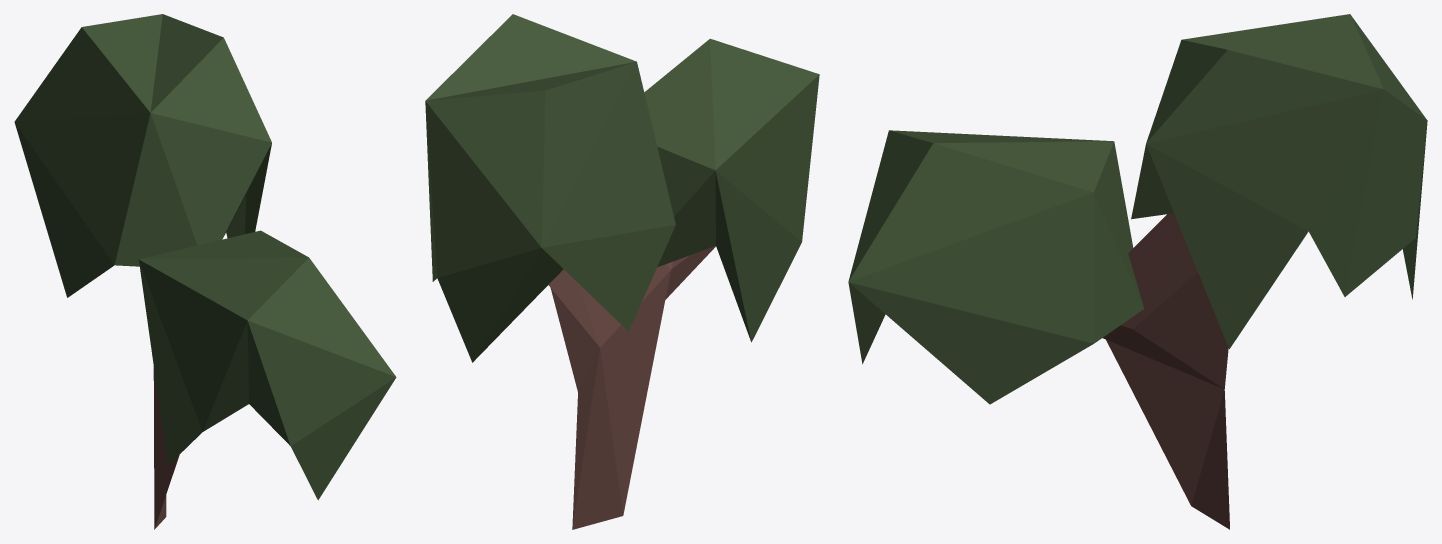
File: Willow_5.lod3.glb
3 renders of one model, left to right at view 1: azimuth 30°, elevation 25°; view 2: azimuth 150°, elevation 25°; view 3: azimuth 270°, elevation 25°, orthographic. The views are drawn at different scales.
Parts seen in each view (by area): view 1: Willow_5; view 2: Willow_5; view 3: Willow_5.
Boxes of the visible parts, x1,y1,x2,y2 form: Willow_5: (14, 14, 396, 529); Willow_5: (425, 14, 819, 529); Willow_5: (848, 14, 1427, 529).
Size of the model in its own units: 0.8827 by 2.36 by 2.43.
